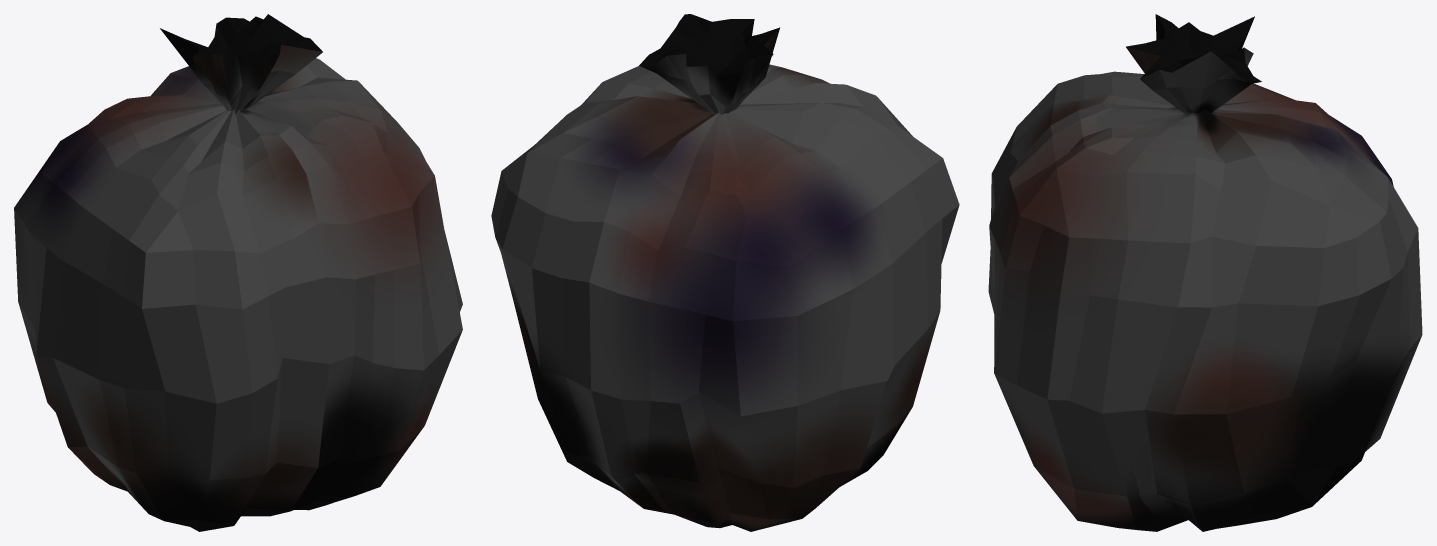
Rendered from GarBage.fbx.
3 renders of one model, left to right at view 1: azimuth 30°, elevation 25°; view 2: azimuth 150°, elevation 25°; view 3: azimuth 270°, elevation 25°, orthographic. The views are drawn at different scales.
Visible parts, largest first — view 1: Cube; view 2: Cube; view 3: Cube.
Boxes of the visible parts, x1=… form: Cube: x1=14, y1=14, x2=462, y2=531; Cube: x1=491, y1=14, x2=959, y2=531; Cube: x1=988, y1=14, x2=1422, y2=531.
Size of the model in its own units: 231 by 278 by 228.
